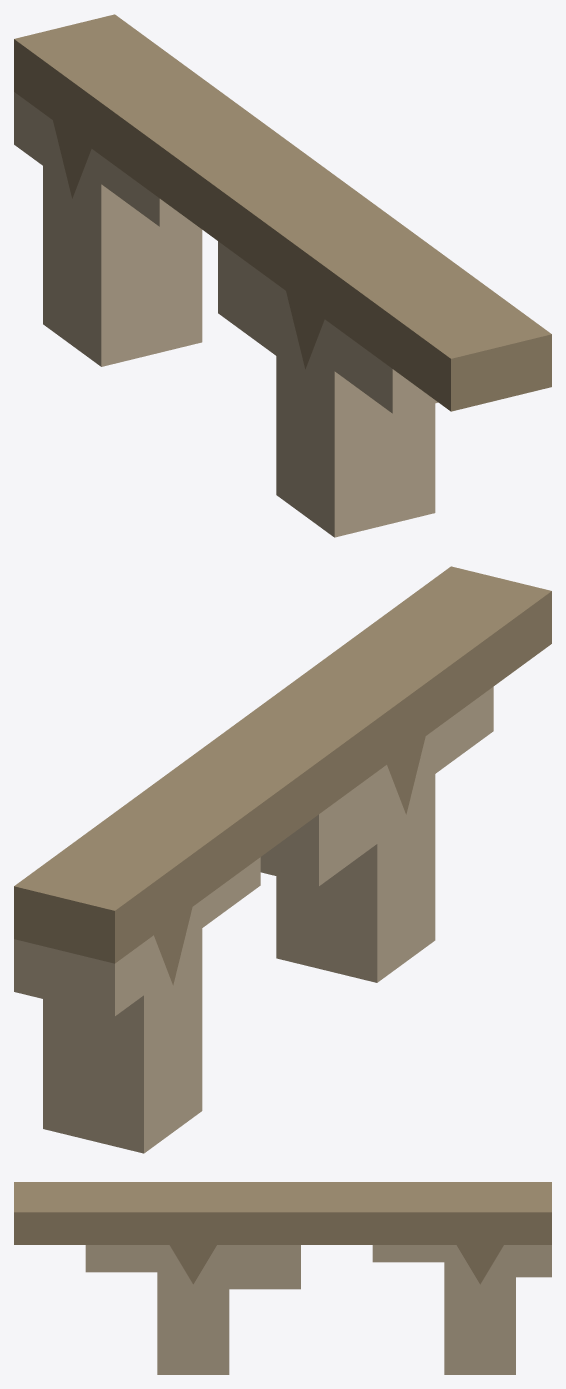
File: LightSandStoneArchMediumBrokenArchway1.fbx
3 views of the same model, one above another, from view 1: azimuth 30°, elevation 25°; view 2: azimuth 150°, elevation 25°; view 3: azimuth 270°, elevation 25° (orthographic). The views are drawn at different scales.
Parts seen in each view (by area): view 1: LightSandStoneArchMediumBrokenArchway1; view 2: LightSandStoneArchMediumBrokenArchway1; view 3: LightSandStoneArchMediumBrokenArchway1.
Boxes of the visible parts, x1,y1,x2,y2 form: LightSandStoneArchMediumBrokenArchway1: (14,14,551,537); LightSandStoneArchMediumBrokenArchway1: (14,566,551,1153); LightSandStoneArchMediumBrokenArchway1: (14,1182,551,1374).
Bounding box in the file's own units: 200 × 500 × 1500.
